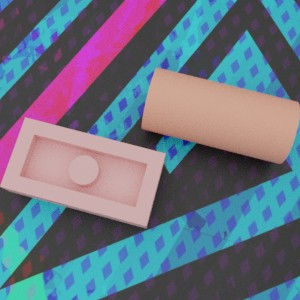lego: (0, 117, 165, 228), (141, 67, 300, 164)
